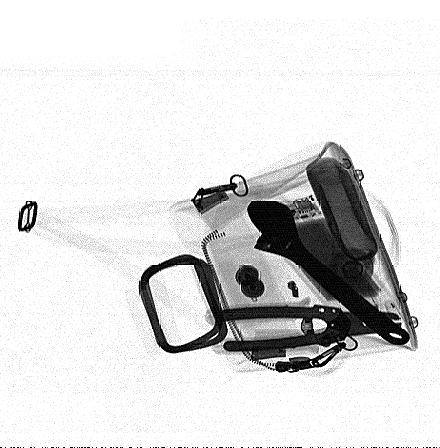Pliers: (211, 305, 405, 353)
Powerbank: (251, 193, 391, 306)
Wrench: (247, 200, 411, 345)
